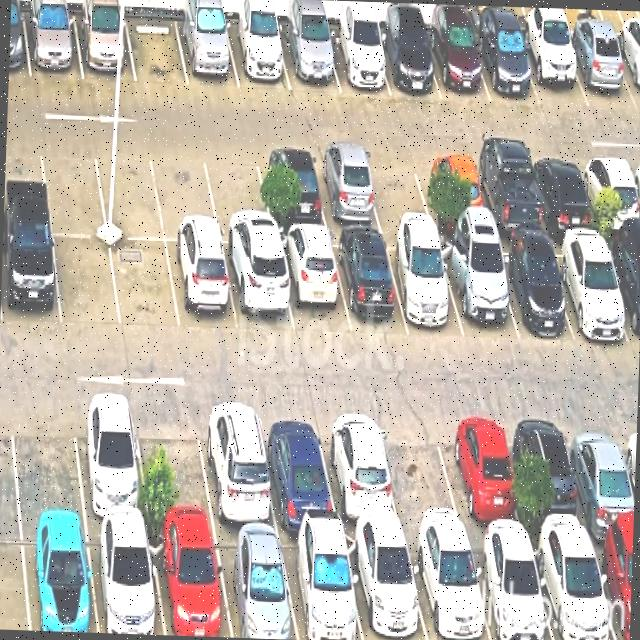empty: (375, 412, 466, 535), (134, 400, 214, 527), (9, 397, 84, 521), (202, 148, 274, 244), (93, 143, 164, 240), (151, 146, 220, 241), (39, 140, 106, 235), (110, 239, 179, 331), (53, 236, 120, 327), (362, 151, 433, 227), (125, 15, 188, 85)
occupied: (440, 411, 525, 538), (317, 409, 402, 532), (196, 402, 277, 529), (257, 406, 338, 529), (71, 396, 148, 524), (512, 412, 590, 537), (213, 530, 298, 639), (148, 527, 231, 637), (279, 532, 362, 640), (344, 533, 427, 640), (468, 537, 553, 640), (406, 537, 491, 640), (564, 414, 634, 538), (530, 538, 615, 640), (548, 237, 631, 340), (87, 524, 164, 635), (21, 523, 97, 632), (437, 239, 519, 339), (384, 235, 463, 337), (490, 240, 572, 338), (276, 232, 350, 334), (331, 233, 407, 332), (166, 242, 238, 331), (222, 245, 294, 333), (469, 154, 545, 235), (1, 228, 60, 326), (562, 33, 637, 108), (416, 153, 488, 231), (256, 150, 327, 228), (311, 150, 382, 227), (517, 33, 588, 107), (528, 154, 596, 231), (472, 28, 539, 104), (425, 27, 490, 101), (578, 154, 640, 231), (373, 29, 440, 98), (224, 20, 290, 90), (175, 17, 239, 88), (590, 537, 633, 640), (324, 28, 390, 95), (73, 13, 135, 81), (602, 237, 640, 345), (23, 12, 83, 79), (278, 26, 339, 90), (611, 37, 640, 108)
